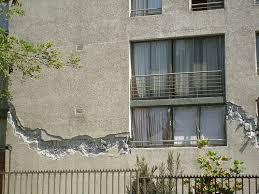spalling: (8, 104, 128, 159), (226, 103, 256, 138)
